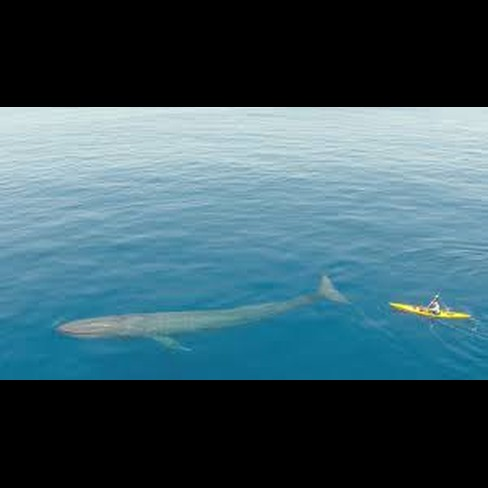bluewhale: (54, 271, 353, 359)
